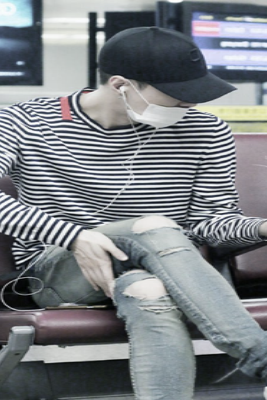mask_weared_incorrect: (127, 84, 196, 131)
